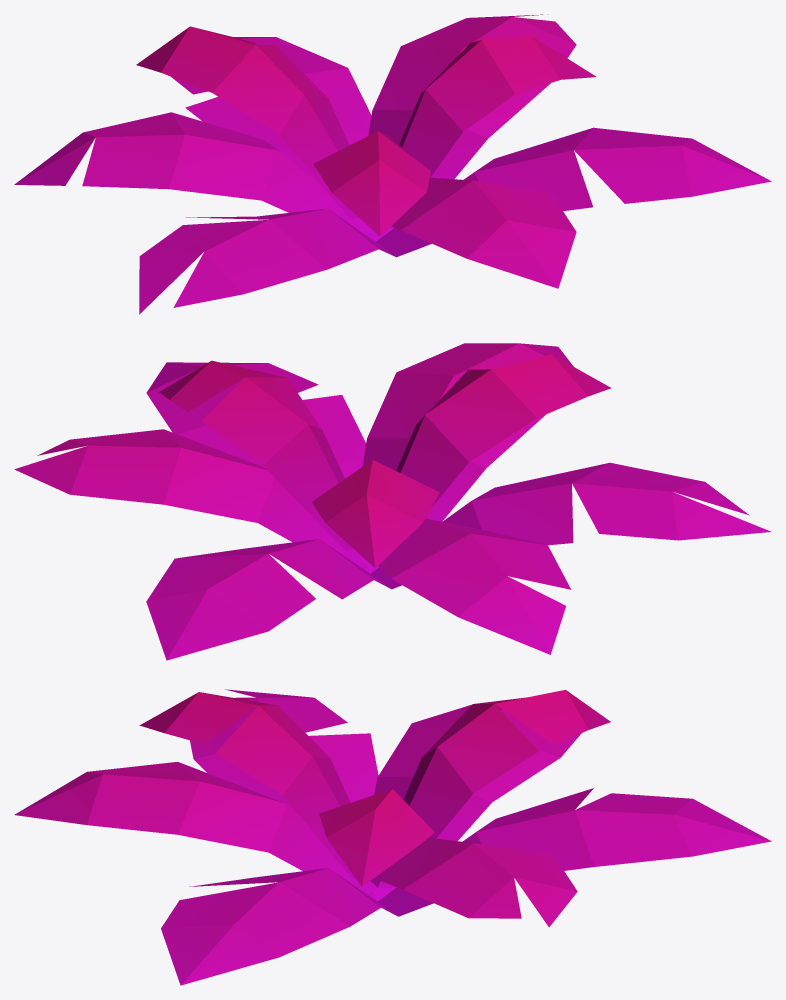
The model's file is SM_Plant_Fern_01.gltf.
3 renders of one model, top to bottom at view 1: azimuth 30°, elevation 25°; view 2: azimuth 150°, elevation 25°; view 3: azimuth 270°, elevation 25°, orthographic. The views are drawn at different scales.
Visible parts, largest first — view 1: SM_Plant_Fern_01; view 2: SM_Plant_Fern_01; view 3: SM_Plant_Fern_01.
Part boxes in pixels (x1,y1,x2,y2): SM_Plant_Fern_01: (14, 14, 771, 314); SM_Plant_Fern_01: (14, 343, 771, 660); SM_Plant_Fern_01: (14, 689, 771, 985).
Size of the model in its own units: 1.29 by 0.3419 by 1.4.
